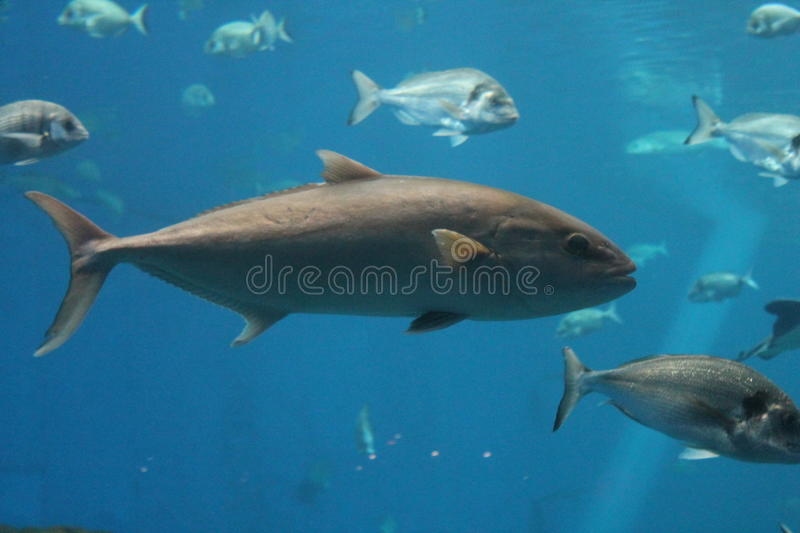Bluefina Tuna: (9, 149, 649, 350)
